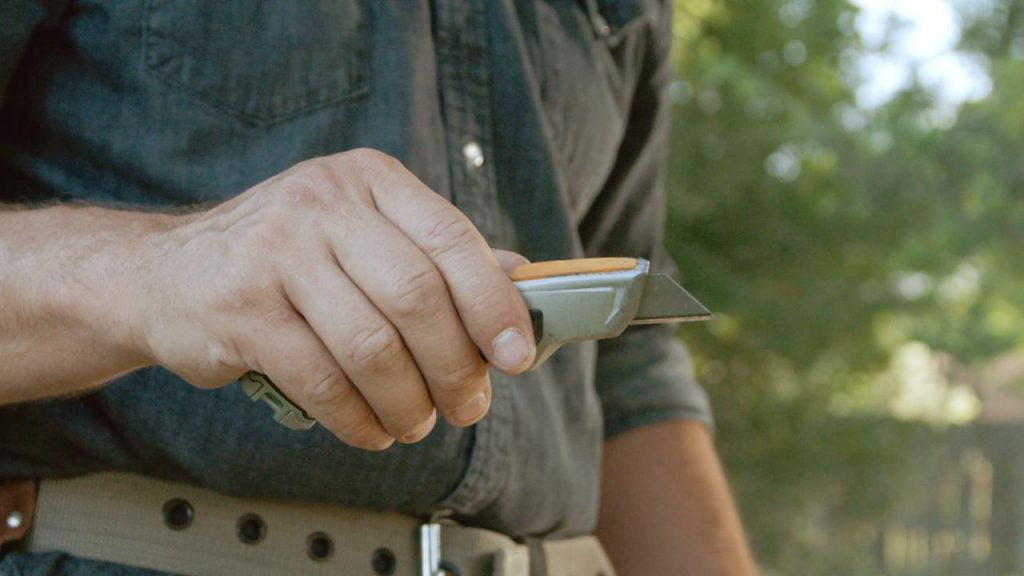knife: (248, 255, 716, 429)
